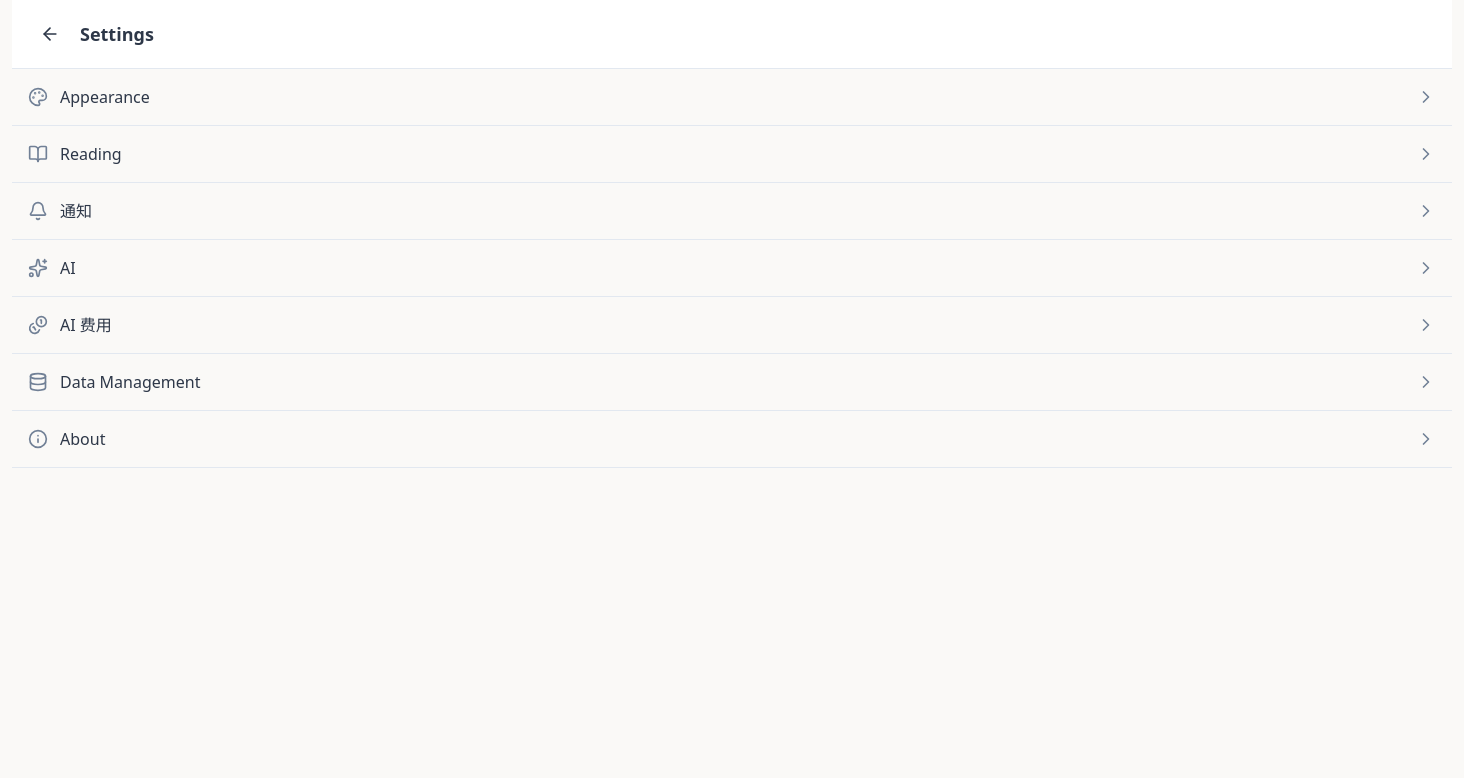
Scenario: MobileSettingsPanel › Settings Groups (Accordion) › should allow multiple accordions to be expanded
// Expand both
Step 1. Click the button "Appearance" → (105, 97), box [12,69,1452,125]
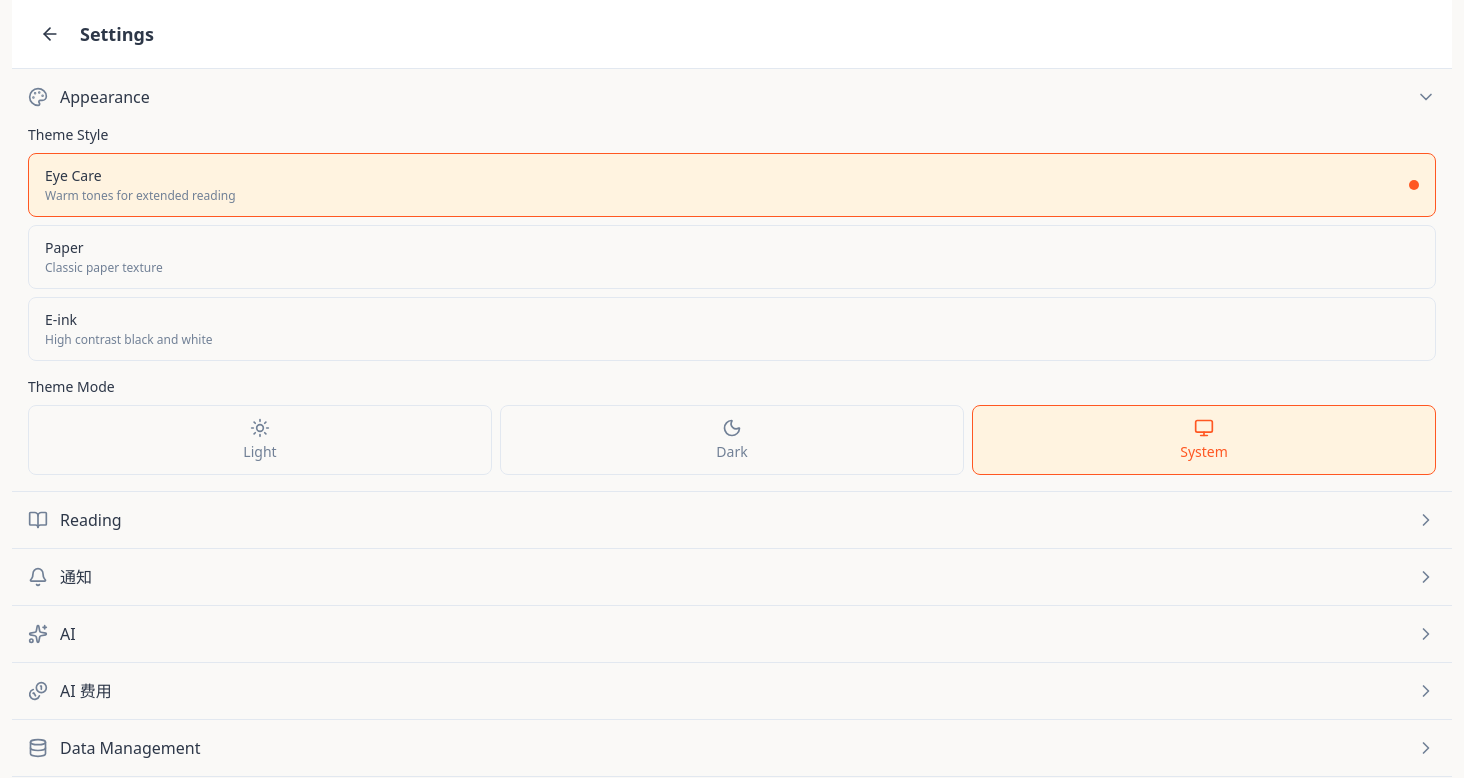
Step 2. Click the button "Reading" → (91, 520), box [12,492,1452,548]
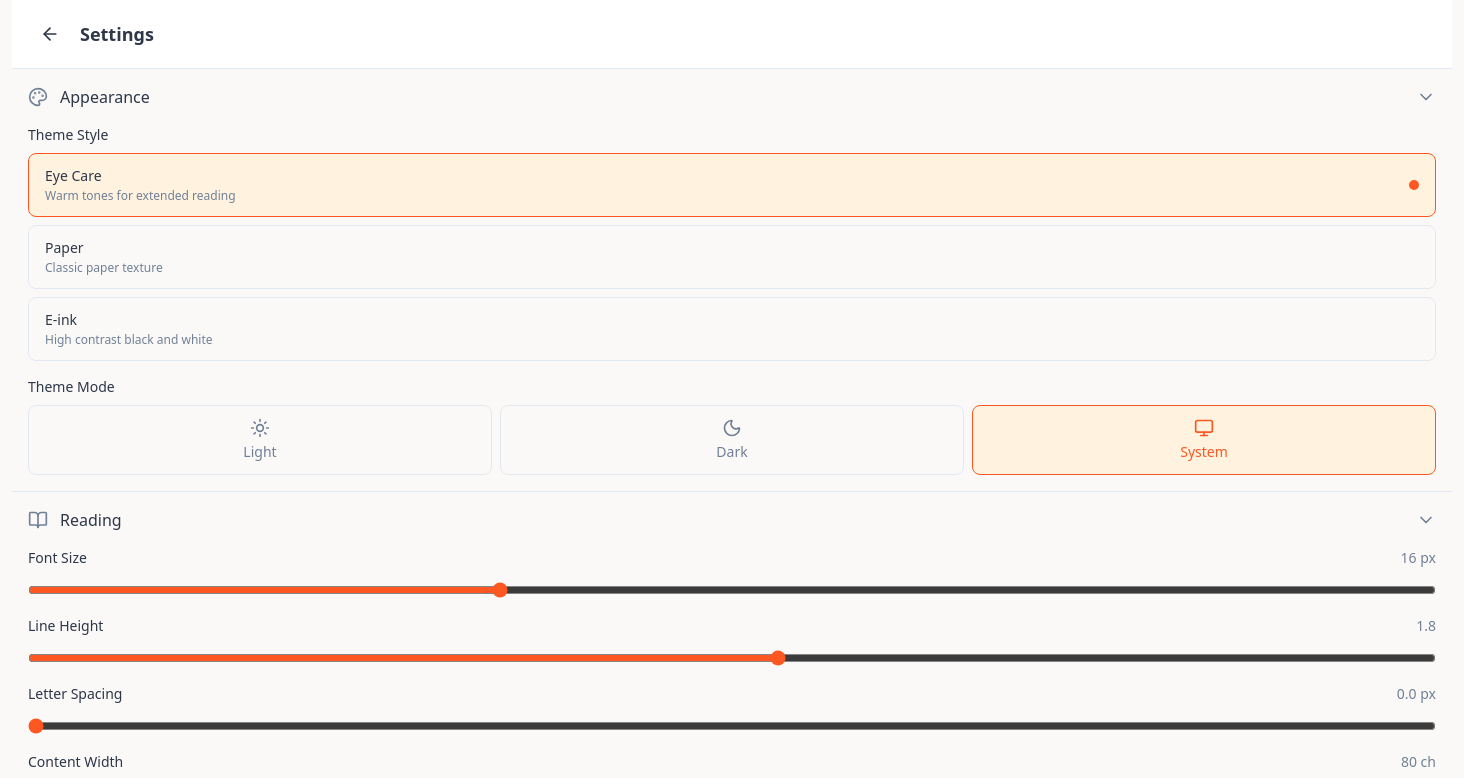
Check: the heading "Theme Style" is shown, box [28,125,108,144]
Check: the text "Font Size" is shown, box [28,548,87,568]
